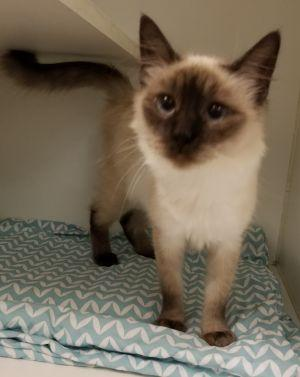siamese: (126, 7, 289, 177)
